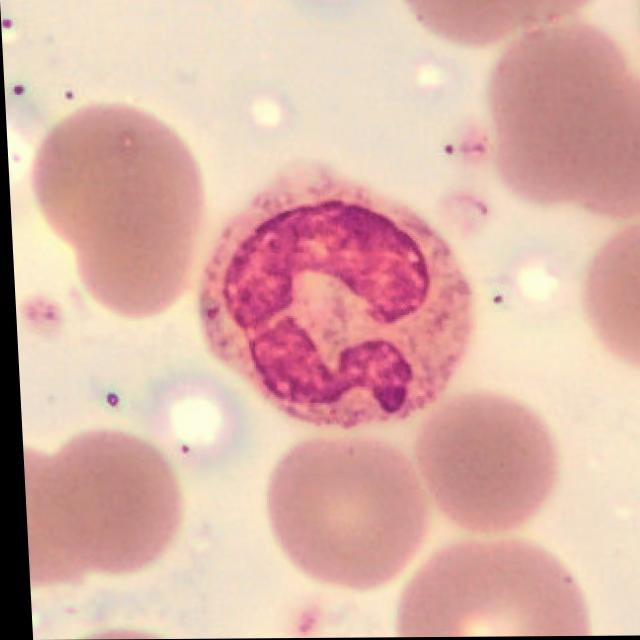Neutrofilo segmentado: (195, 168, 470, 431)
